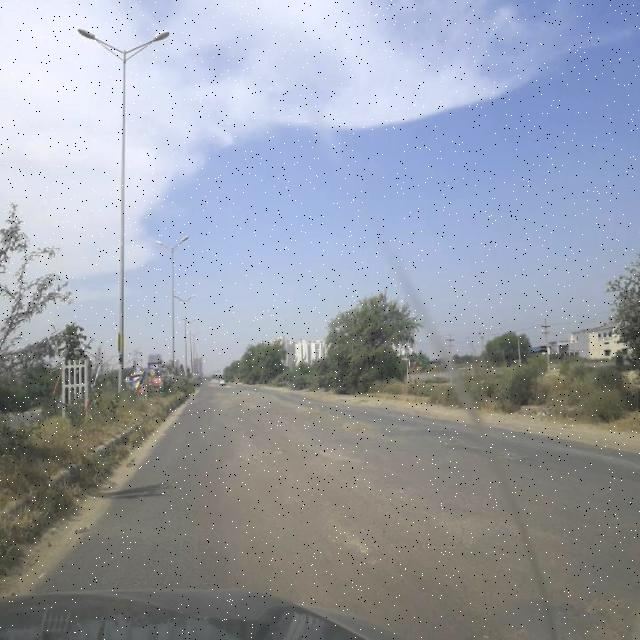D40: (556, 574, 636, 635), (440, 425, 527, 462), (244, 431, 294, 461), (333, 403, 382, 433), (230, 387, 279, 417)
